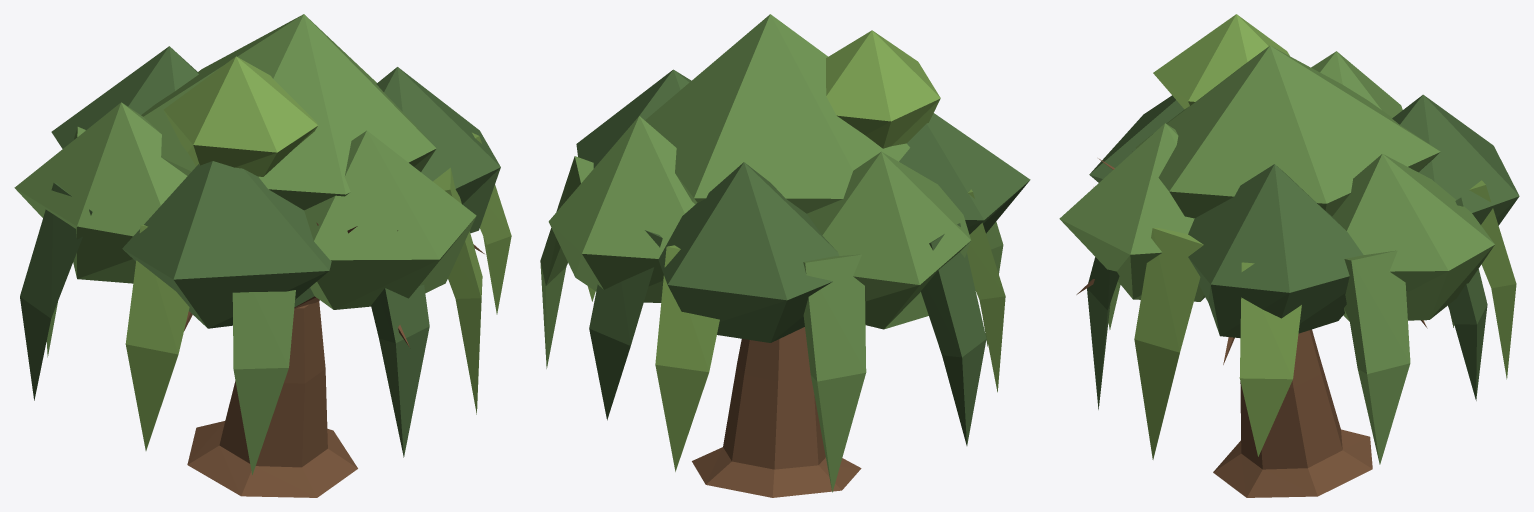
Rendered from tree_willow_1.obj.
3 renders of one model, left to right at view 1: azimuth 30°, elevation 25°; view 2: azimuth 150°, elevation 25°; view 3: azimuth 270°, elevation 25°, orthographic. The views are drawn at different scales.
Visible parts, largest first — view 1: tree_willow_1; view 2: tree_willow_1; view 3: tree_willow_1.
Boxes of the visible parts, x1,y1,x2,y2 form: tree_willow_1: (14, 14, 511, 497); tree_willow_1: (540, 14, 1030, 497); tree_willow_1: (1059, 14, 1519, 497).
Bounding box in the file's own units: 0.9558 × 0.9702 × 0.931.
